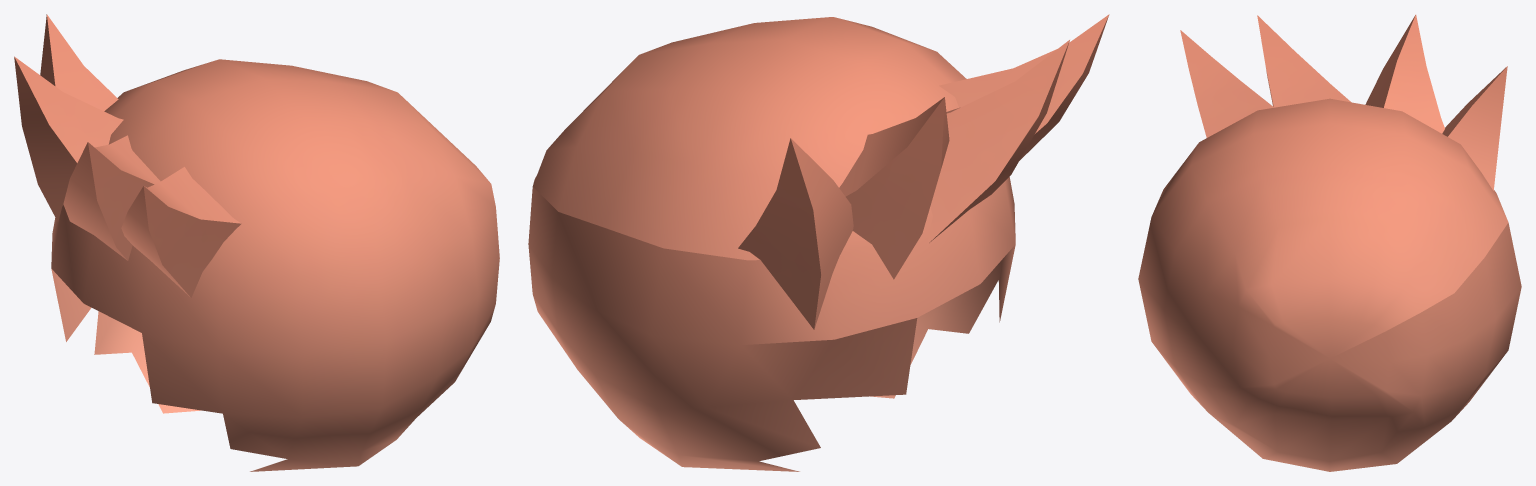
The model's file is Hair05.fbx.
3 renders of one model, left to right at view 1: azimuth 30°, elevation 25°; view 2: azimuth 150°, elevation 25°; view 3: azimuth 270°, elevation 25°, orthographic. The views are drawn at different scales.
Parts seen in each view (by area): view 1: Hair05; view 2: Hair05; view 3: Hair05.
Boxes of the visible parts, box(x1,y1,x2,y2) form: Hair05: box(14, 14, 499, 471); Hair05: box(528, 14, 1109, 471); Hair05: box(1138, 14, 1521, 471).
Size of the model in its own units: 0.9296 by 0.8833 by 0.8862.
